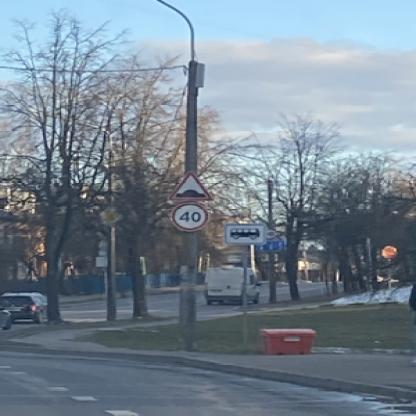speedlimit: (169, 201, 207, 229)
